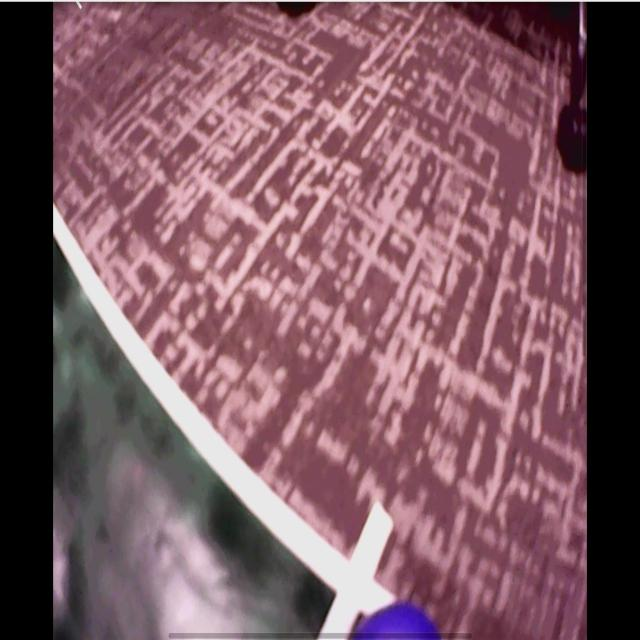ball: (355, 602, 439, 640)
